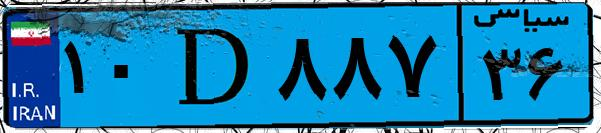0: (110, 28, 158, 98)
1: (57, 26, 110, 100)
3: (475, 38, 525, 113)
6: (525, 38, 570, 115)
7: (385, 28, 445, 110)
8: (270, 28, 330, 110), (330, 28, 385, 110)
D: (158, 12, 270, 120)
